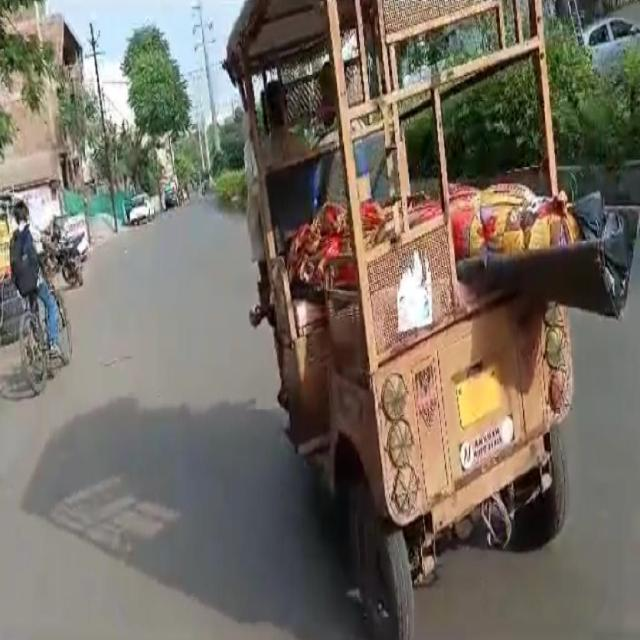autorickshaw: (225, 0, 639, 635)
bicycle: (10, 200, 76, 392)
